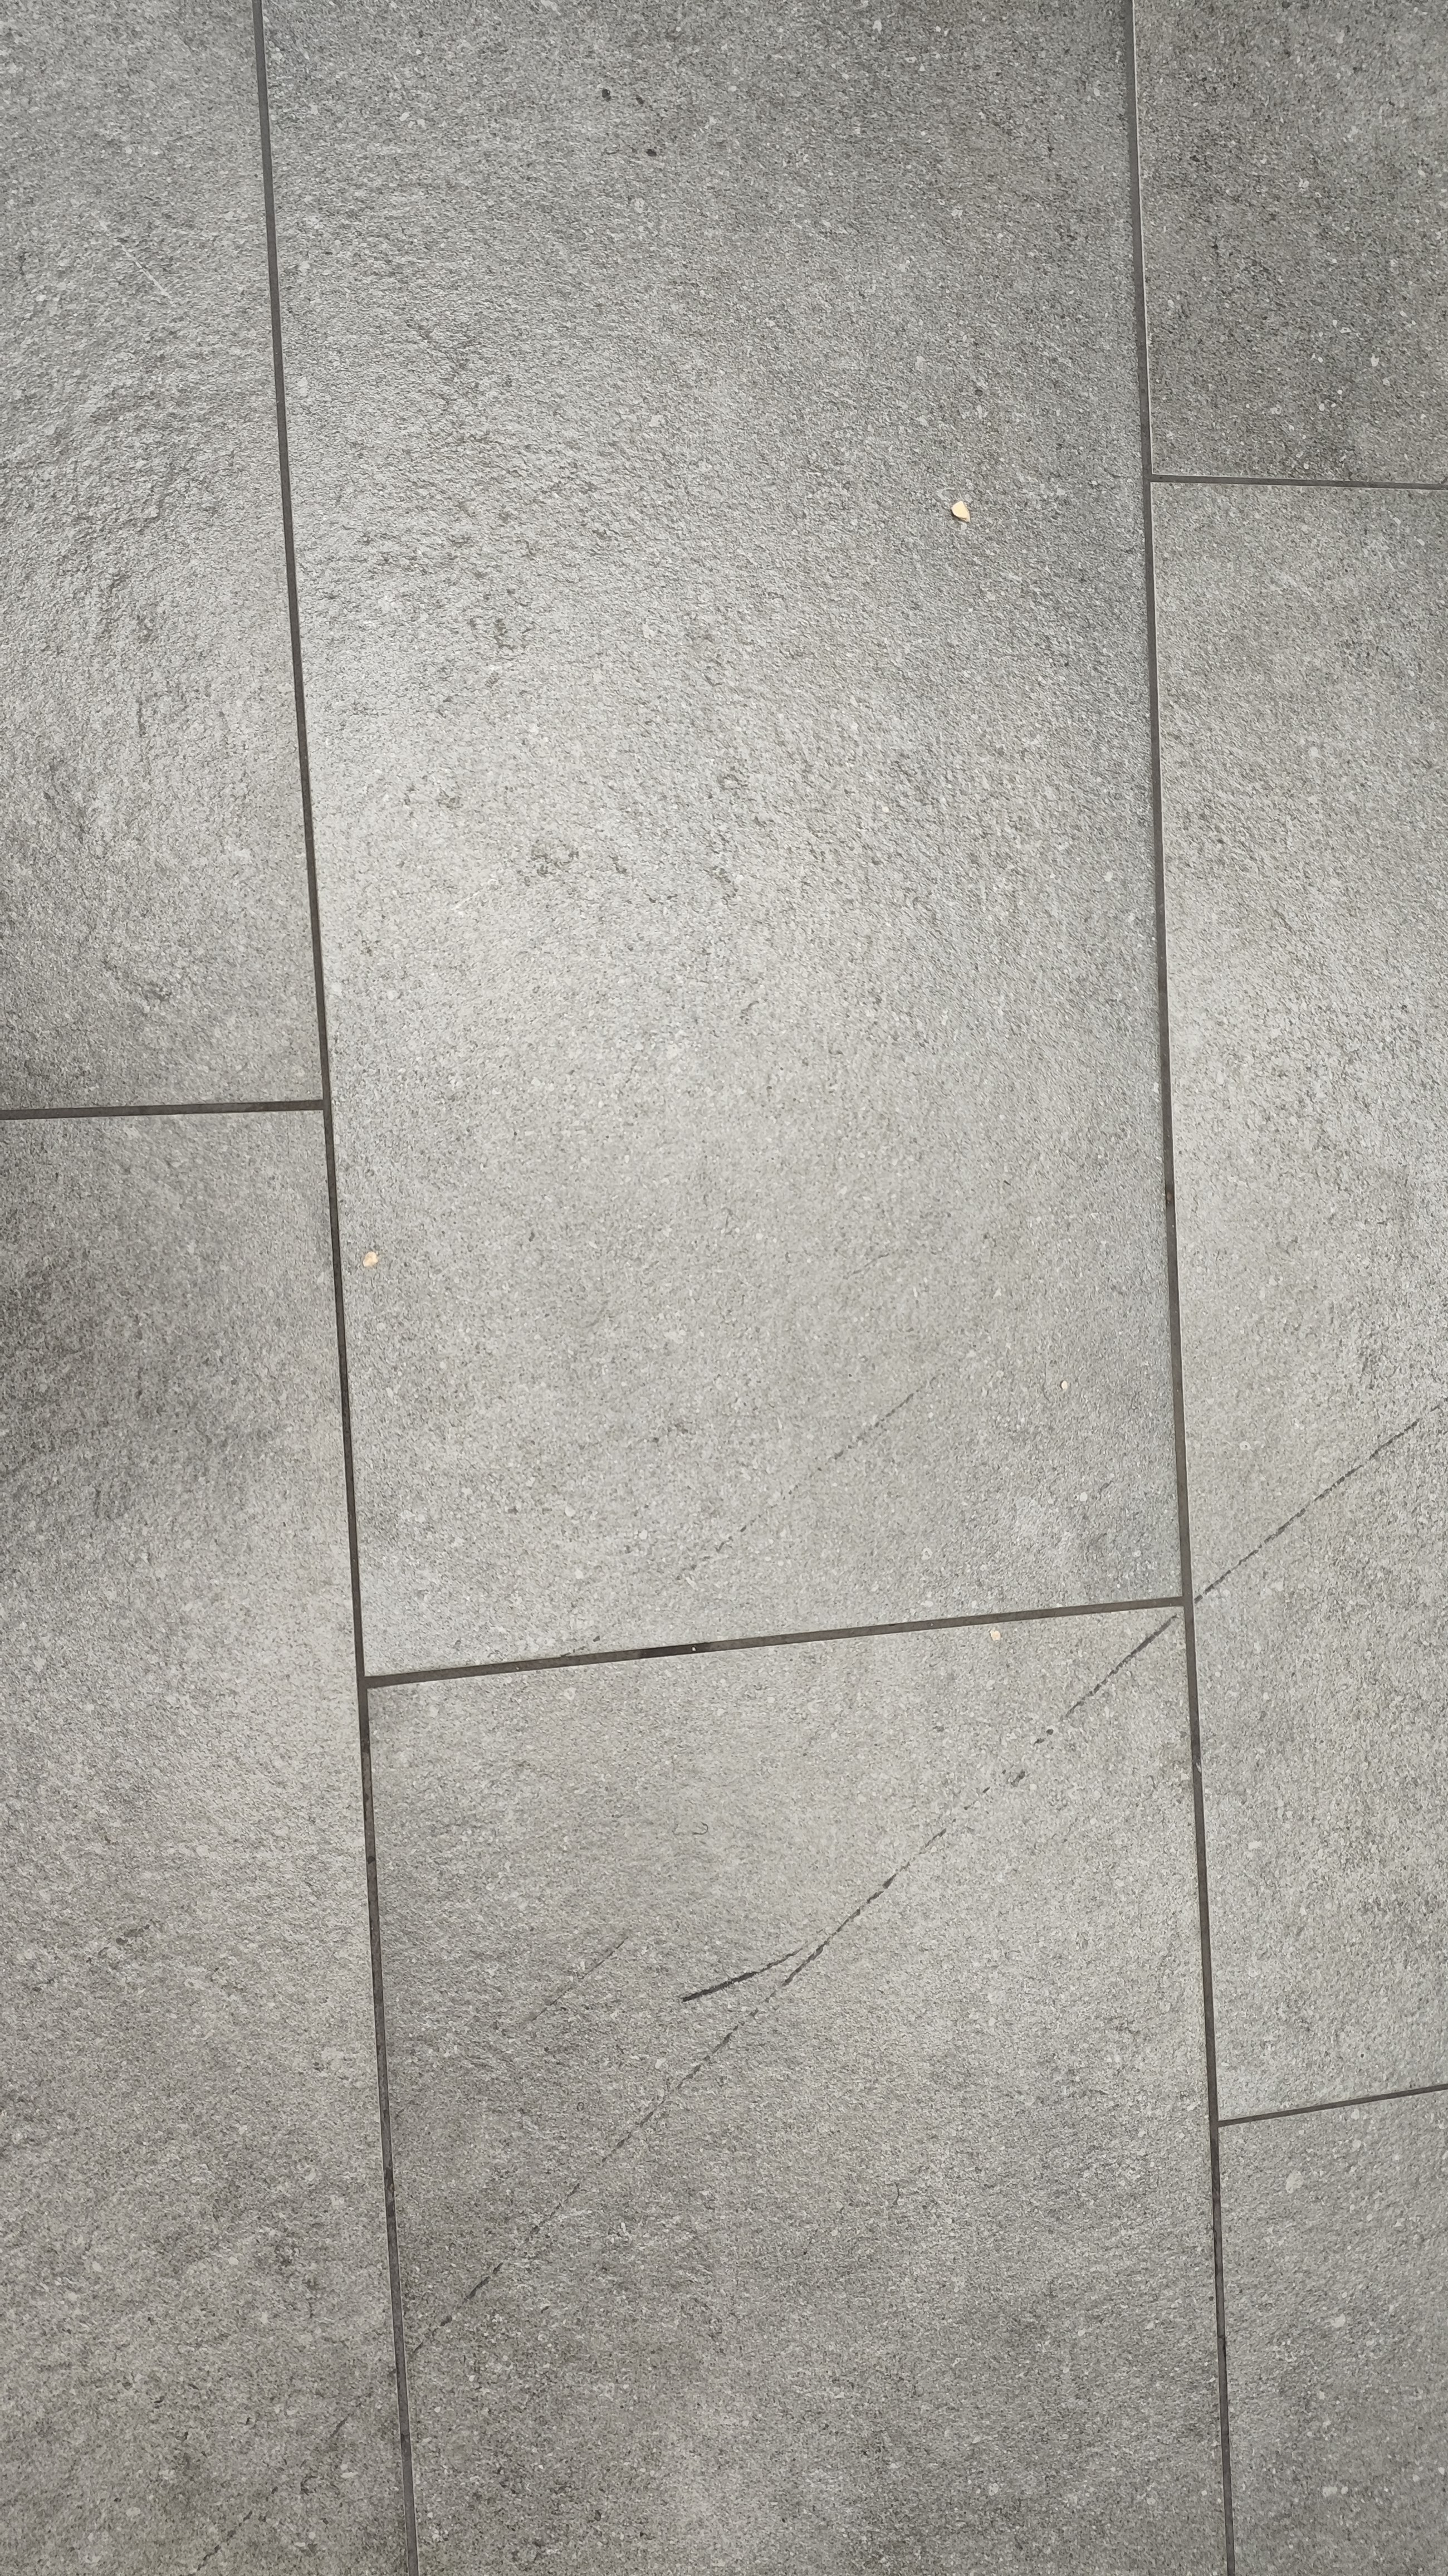Garbage: (937, 490, 990, 531)
Stain: (838, 1759, 1034, 1934), (1036, 1615, 1190, 1753), (656, 1937, 856, 2033), (1190, 1500, 1337, 1601), (1330, 1371, 1439, 1499)
